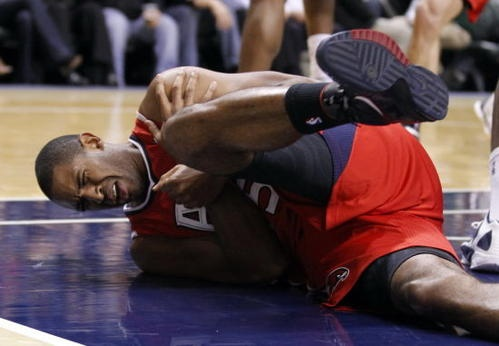falling: (25, 22, 480, 326)
